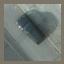car: (16, 16, 45, 45)
